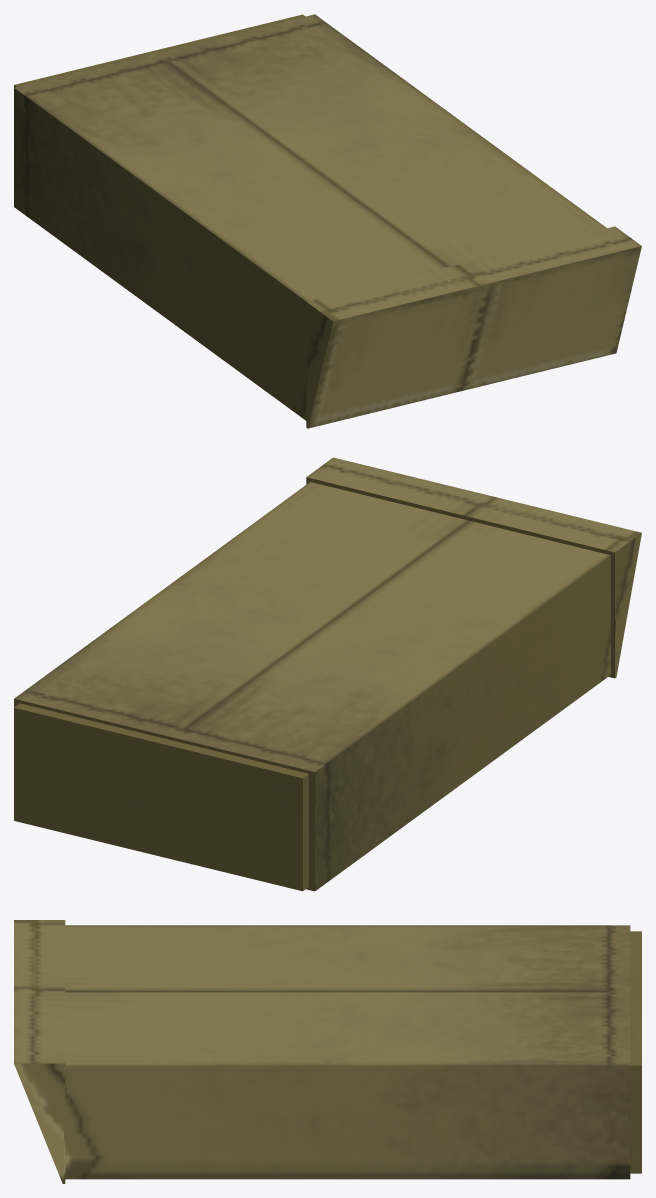
File: pz_g020_furniture_storage_02_yellow_wall_locker.obj
3 views of the same model, one above another, from view 1: azimuth 30°, elevation 25°; view 2: azimuth 150°, elevation 25°; view 3: azimuth 270°, elevation 25° (orthographic). The views are drawn at different scales.
Visible parts, largest first — view 1: locker_body_front, locker_body_right, sloped_roof_top, sloped_roof_rear, sloped_roof_right, recessed_plinth_front; view 2: locker_body_front, locker_body_right, recessed_plinth_bottom, sloped_roof_rear, recessed_plinth_front, sloped_roof_bottom, locker_body_bottom, sloped_roof_right, recessed_plinth_right; view 3: locker_body_front, locker_body_left, sloped_roof_rear, sloped_roof_left, recessed_plinth_front, recessed_plinth_left.
Boxes of the visible parts, bbox=[...] form: locker_body_front: bbox=[14, 14, 606, 301]; locker_body_right: bbox=[14, 88, 306, 420]; sloped_roof_top: bbox=[308, 246, 641, 428]; sloped_roof_rear: bbox=[307, 226, 641, 321]; sloped_roof_right: bbox=[306, 302, 332, 428]; recessed_plinth_front: bbox=[14, 14, 305, 86]; locker_body_front: bbox=[14, 482, 610, 771]; locker_body_right: bbox=[315, 555, 610, 890]; recessed_plinth_bottom: bbox=[14, 708, 302, 891]; sloped_roof_rear: bbox=[306, 457, 641, 552]; recessed_plinth_front: bbox=[14, 703, 308, 778]; sloped_roof_bottom: bbox=[306, 477, 614, 678]; locker_body_bottom: bbox=[14, 698, 314, 891]; sloped_roof_right: bbox=[615, 533, 641, 678]; recessed_plinth_right: bbox=[303, 774, 308, 890]; locker_body_front: bbox=[65, 925, 630, 1065]; locker_body_left: bbox=[65, 1065, 630, 1179]; sloped_roof_rear: bbox=[14, 920, 65, 1063]; sloped_roof_left: bbox=[14, 1063, 65, 1183]; recessed_plinth_front: bbox=[630, 931, 641, 1065]; recessed_plinth_left: bbox=[630, 1065, 641, 1173].
Size of the model in its own units: 1.03 by 0.4031 by 1.89.
Materials: 1 (1 with a texture image).
